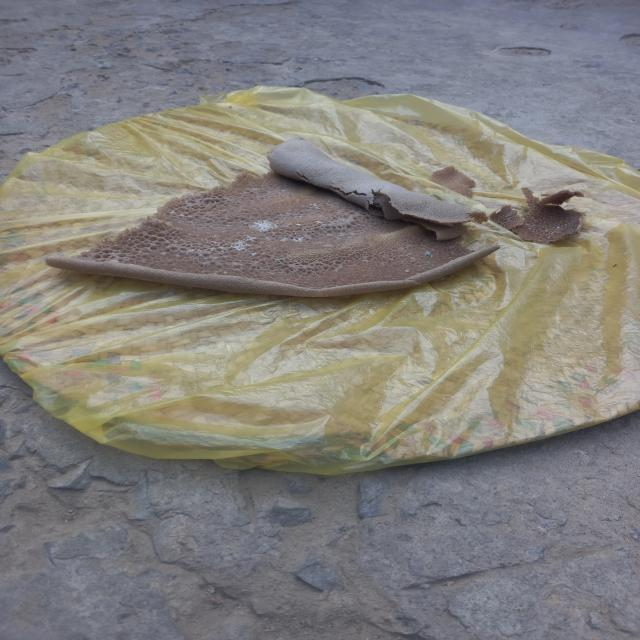injera_mold: (185, 244, 217, 260), (248, 217, 278, 233), (227, 236, 254, 253), (306, 200, 324, 211), (422, 248, 436, 260), (291, 234, 306, 244), (304, 155, 315, 162)
